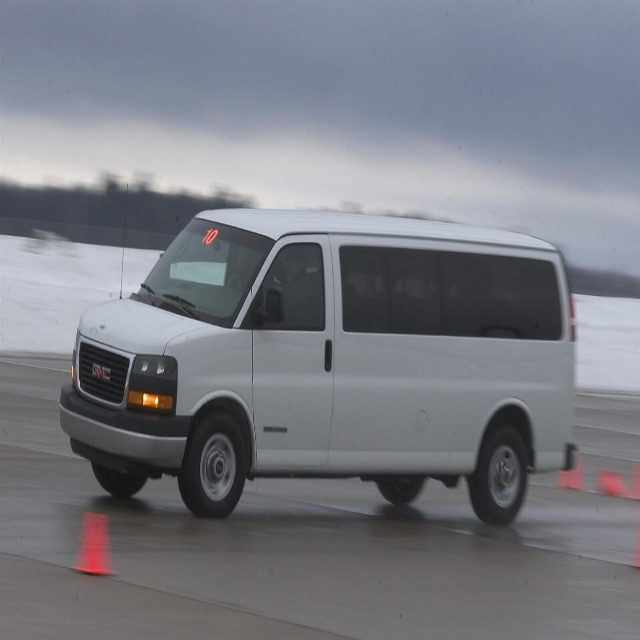Van: (60, 207, 579, 526)
